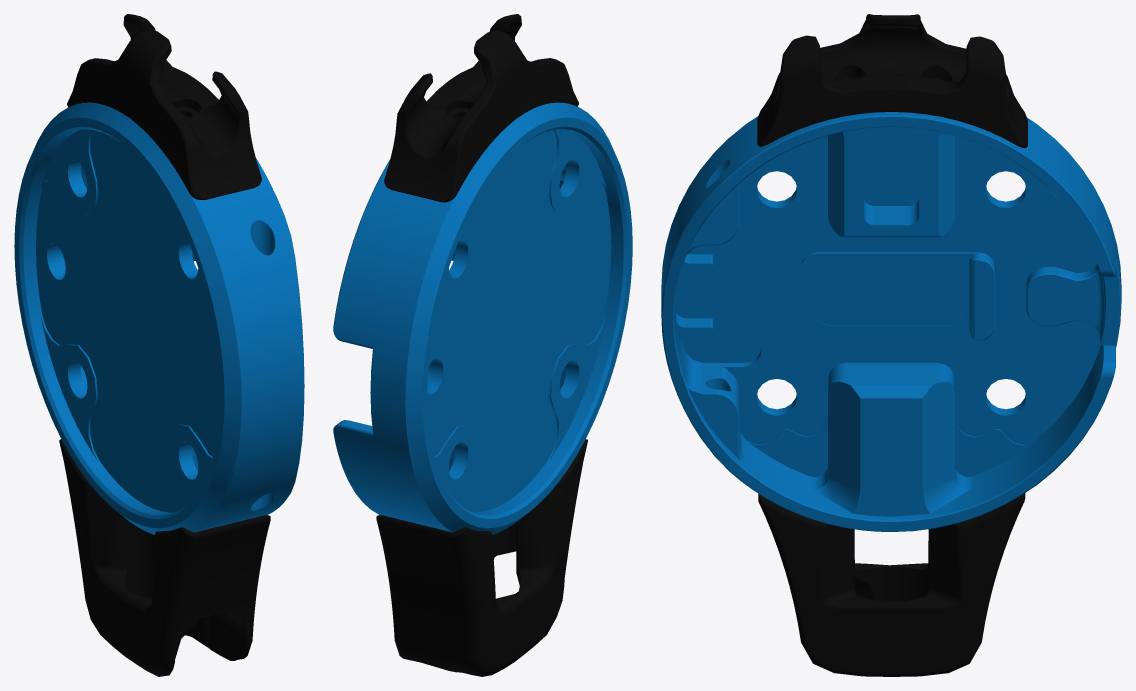
The model's file is mount_arm_side_render.glb.
The picture shows the model from 3 angles, left to right: view 1: azimuth 30°, elevation 25°; view 2: azimuth 150°, elevation 25°; view 3: azimuth 270°, elevation 25°; orthographic projection. The views are drawn at different scales.
Visible parts, largest first — view 1: SM_FrankaEmikaRobot_link8_RobotSide_Visual; view 2: SM_FrankaEmikaRobot_link8_RobotSide_Visual; view 3: SM_FrankaEmikaRobot_link8_RobotSide_Visual.
Boxes of the visible parts, x1,y1,x2,y2 form: SM_FrankaEmikaRobot_link8_RobotSide_Visual: (14, 14, 304, 676); SM_FrankaEmikaRobot_link8_RobotSide_Visual: (333, 14, 632, 676); SM_FrankaEmikaRobot_link8_RobotSide_Visual: (661, 14, 1121, 676).
Size of the model in its own units: 0.017 by 0.1088 by 0.071.
